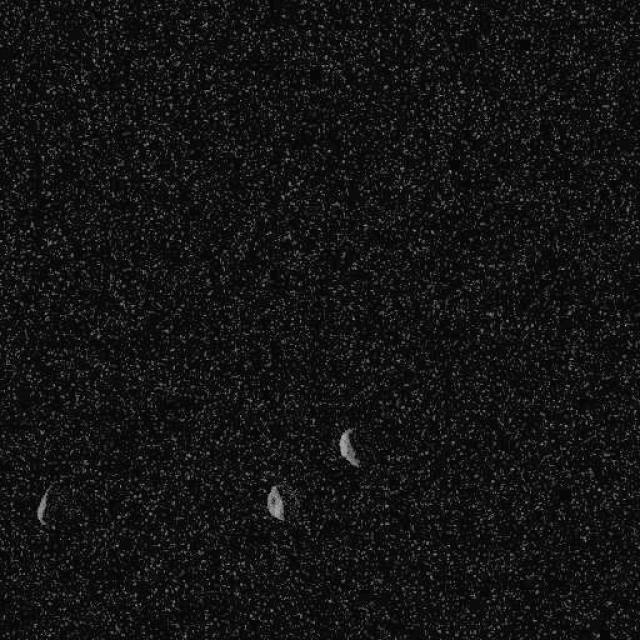D2: (336, 426, 362, 469), (35, 482, 55, 528), (265, 484, 285, 521)
